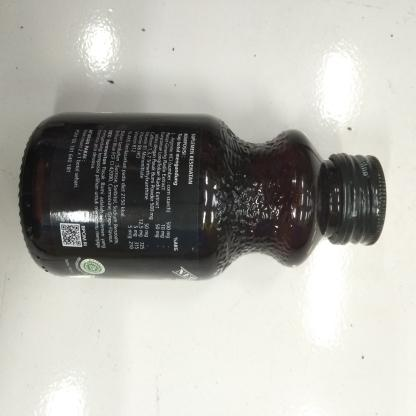glass: (15, 106, 392, 286)
